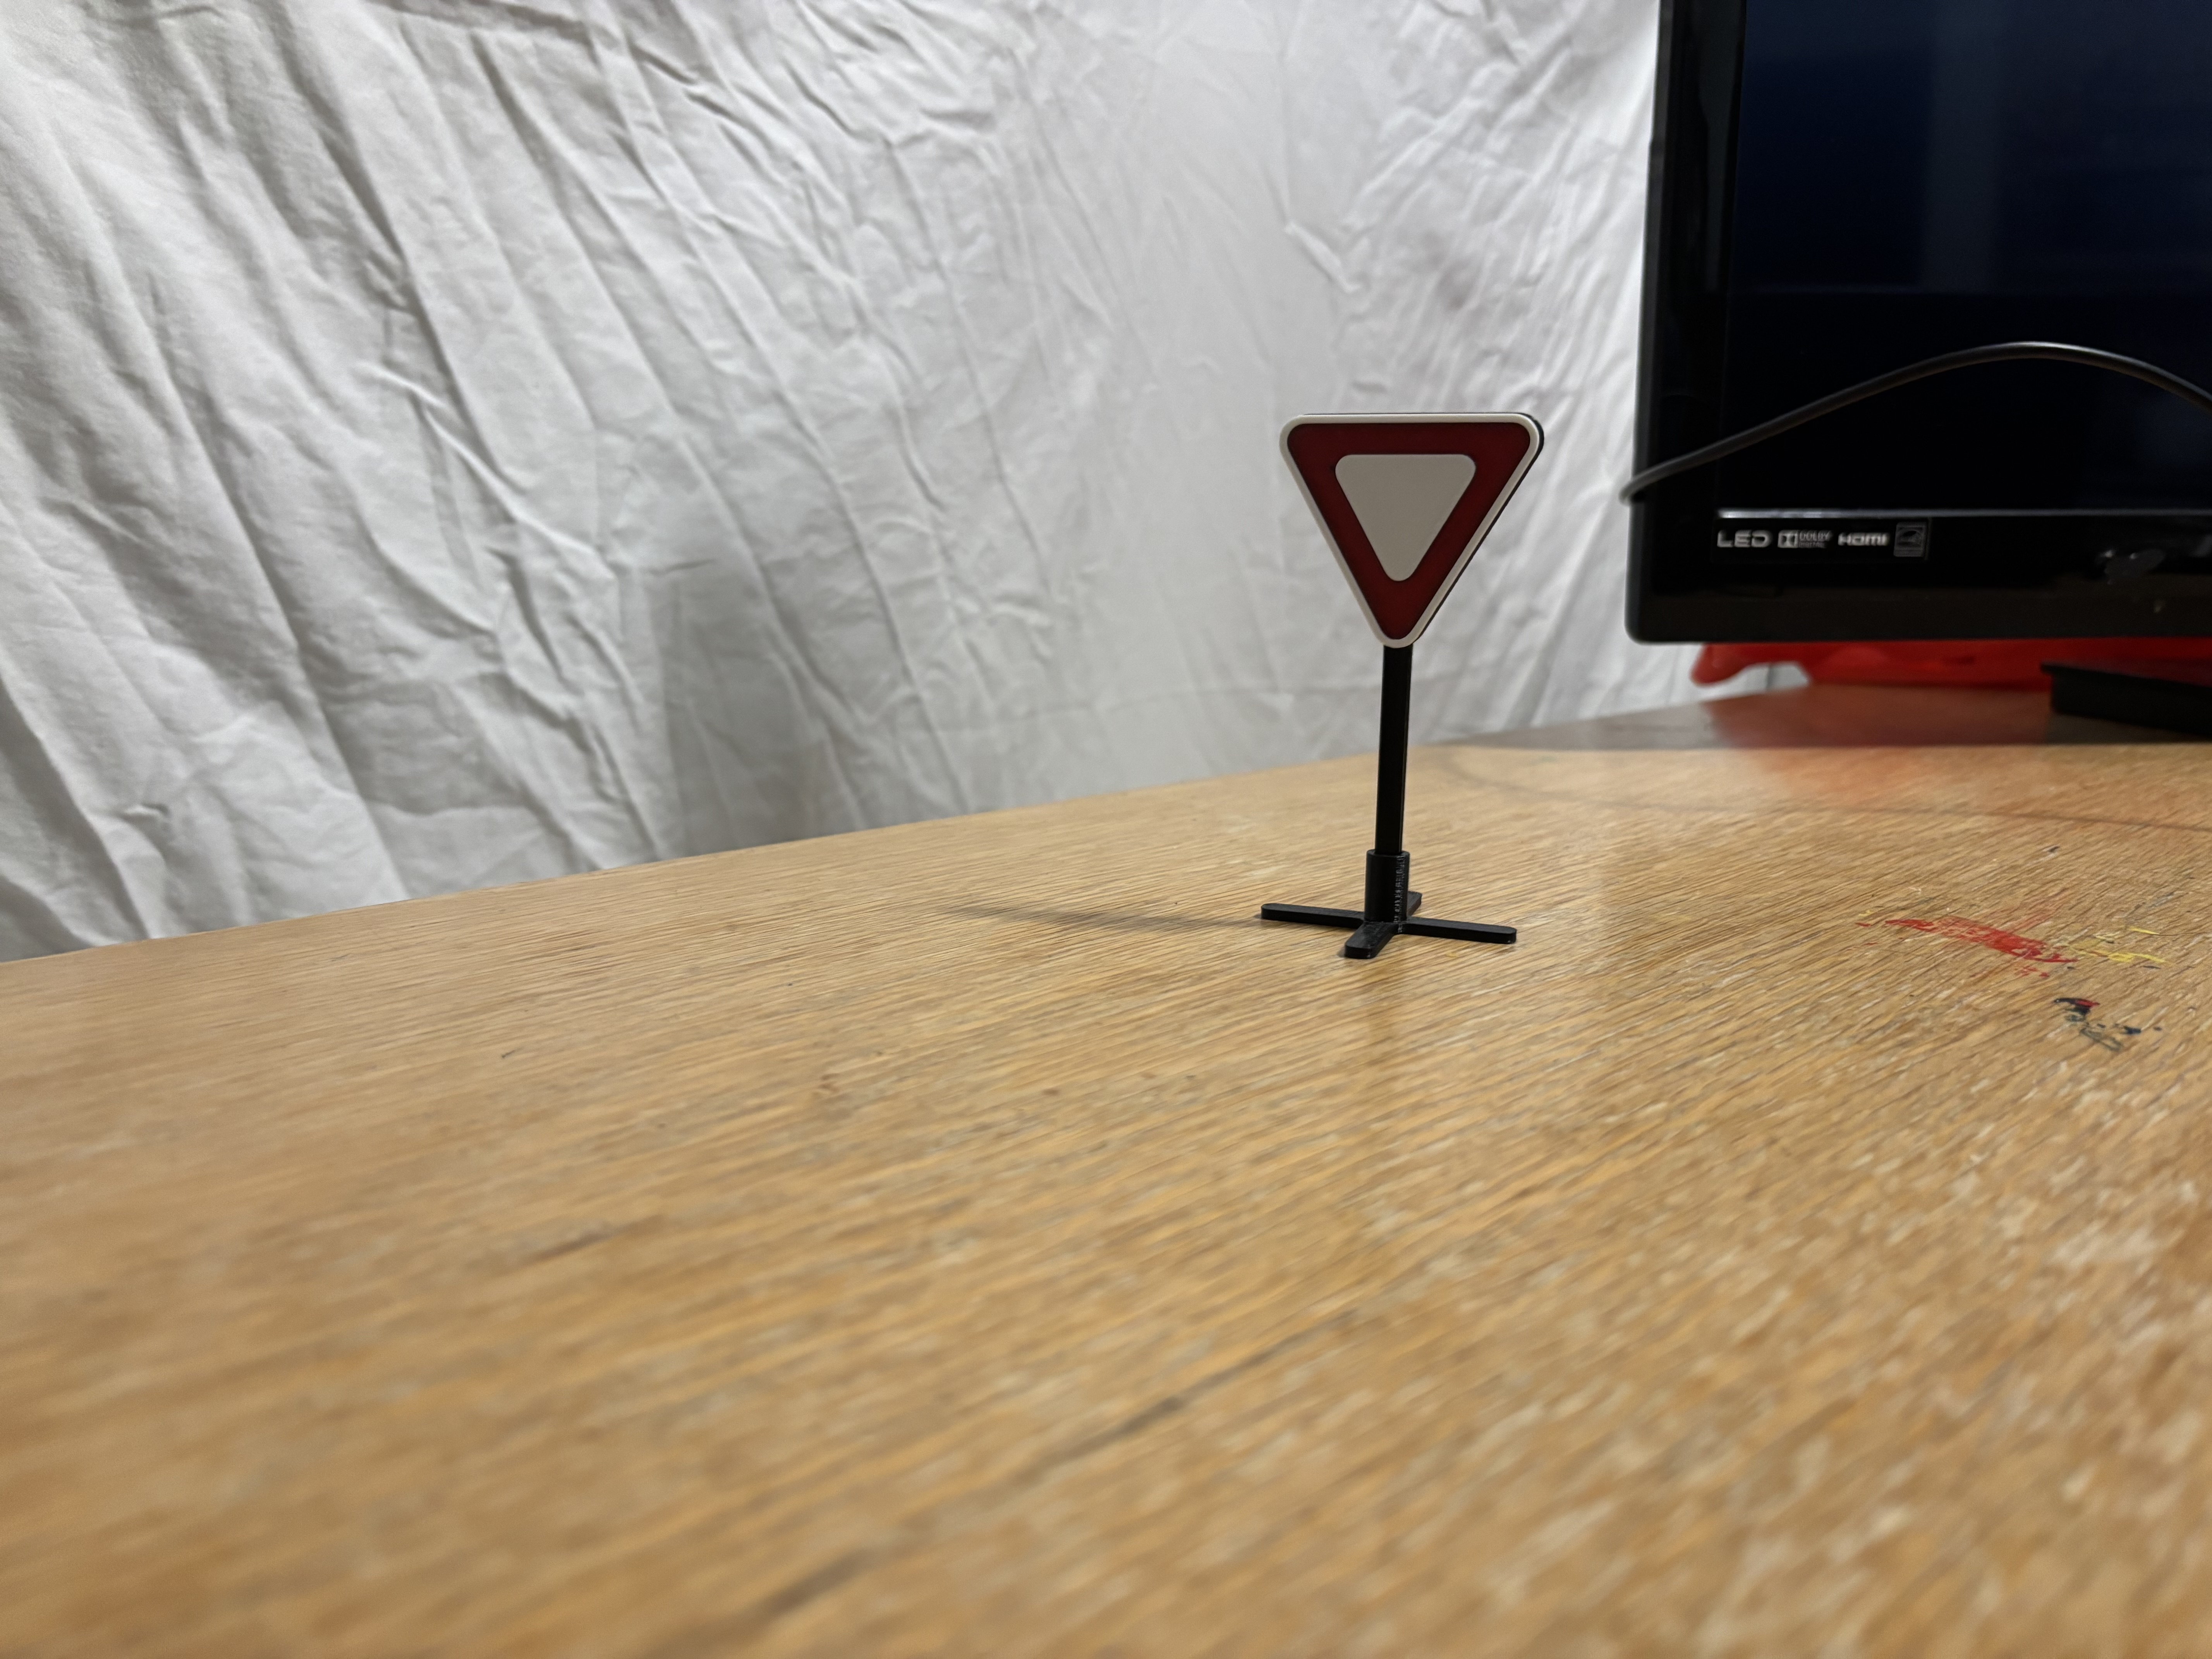sign_yield: (1259, 413, 1541, 643)
